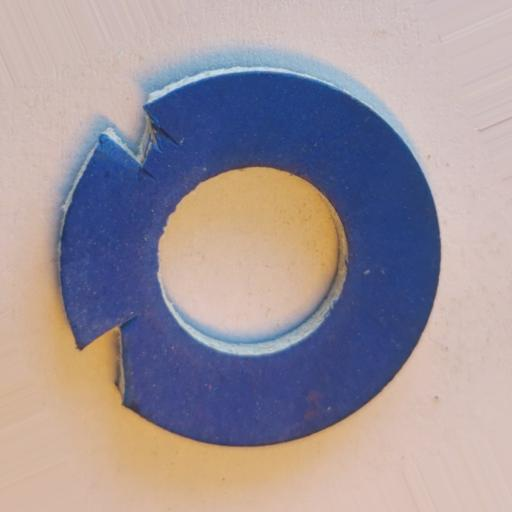defect: (102, 103, 182, 183), (79, 315, 144, 409)
